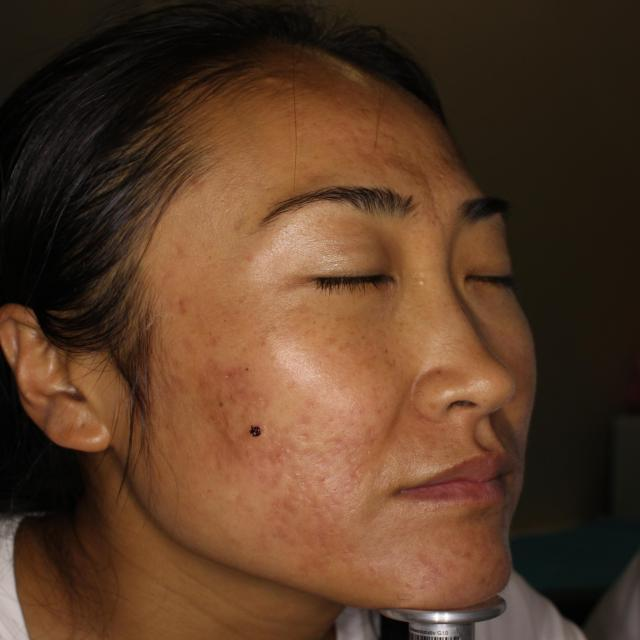acne: (213, 420, 241, 450), (262, 447, 297, 464), (174, 295, 193, 320), (380, 131, 404, 150), (257, 73, 287, 88), (215, 365, 241, 382), (226, 386, 248, 406), (183, 174, 202, 193)
